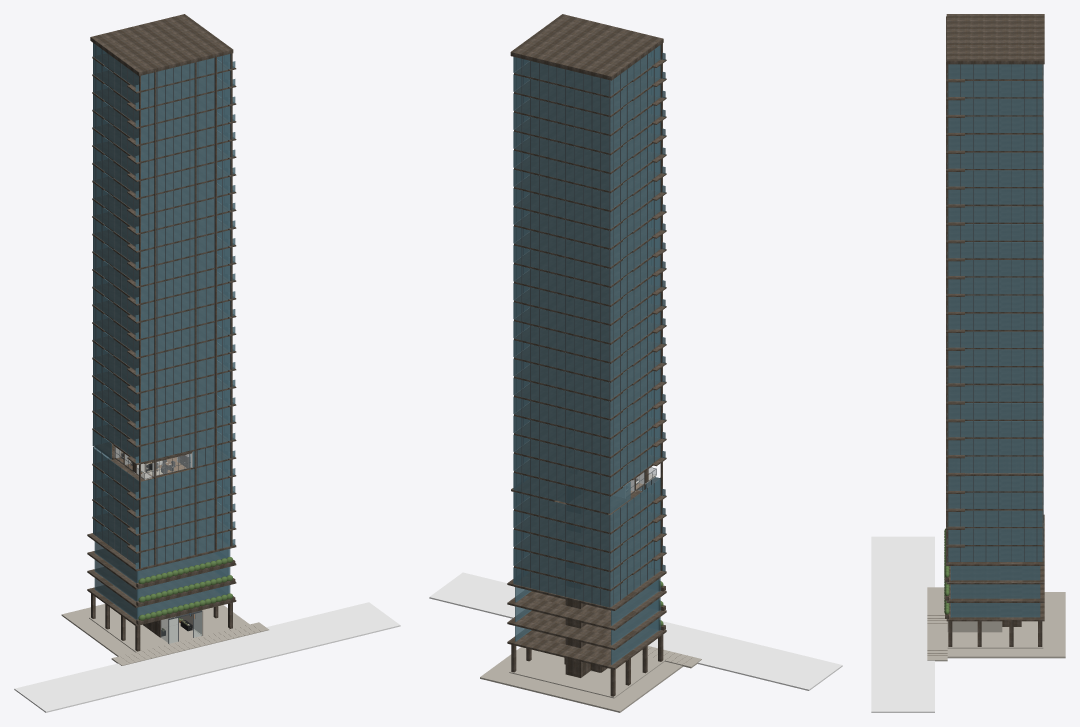
File: torre-natalini.b3b3d73ef3.glb
The picture shows the model from 3 angles, left to right: view 1: azimuth 30°, elevation 25°; view 2: azimuth 150°, elevation 25°; view 3: azimuth 270°, elevation 25°; orthographic projection. The views are drawn at different scales.
Visible parts, largest first — view 1: COL__fachada__Vidrio_fachada_azul_gris, COL__fachada__AV_Hormigon, COL__entorno__Asfalto, COL__fachada__AV_Aluminio, COL__podio__AV_Hormigon, COL__podio__Vidrio_fachada_azul_gris, COL__entorno__AV_Piedra, COL__podio__AV_Piedra, VIS__podio__Hojas, COL__depto__AV_Vidrio; view 2: COL__fachada__Vidrio_fachada_azul_gris, COL__fachada__AV_Hormigon, COL__fachada__AV_Aluminio, COL__podio__AV_Hormigon, COL__entorno__Asfalto, COL__entorno__AV_Piedra, COL__podio__AV_Piedra, COL__podio__Vidrio_fachada_azul_gris, COL__nucleo__AV_Hormigon; view 3: COL__fachada__AV_Hormigon, COL__fachada__Vidrio_fachada_azul_gris, COL__entorno__Asfalto, COL__podio__AV_Hormigon, COL__fachada__AV_Aluminio, COL__podio__Vidrio_fachada_azul_gris, COL__entorno__AV_Piedra, COL__podio__AV_Piedra, COL__hall__AV_Piedra.
Boxes of the visible parts, <box> form: COL__fachada__Vidrio_fachada_azul_gris: <box>92,43,235,568</box>; COL__fachada__AV_Hormigon: <box>90,14,236,571</box>; COL__entorno__Asfalto: <box>14,602,400,712</box>; COL__fachada__AV_Aluminio: <box>93,44,230,565</box>; COL__podio__AV_Hormigon: <box>87,530,236,651</box>; COL__podio__Vidrio_fachada_azul_gris: <box>94,541,230,619</box>; COL__entorno__AV_Piedra: <box>61,604,268,665</box>; COL__podio__AV_Piedra: <box>89,608,233,652</box>; VIS__podio__Hojas: <box>138,557,232,620</box>; COL__depto__AV_Vidrio: <box>116,448,190,478</box>; COL__fachada__Vidrio_fachada_azul_gris: <box>513,45,665,607</box>; COL__fachada__AV_Hormigon: <box>510,14,666,610</box>; COL__fachada__AV_Aluminio: <box>521,49,660,607</box>; COL__podio__AV_Hormigon: <box>507,567,666,696</box>; COL__entorno__Asfalto: <box>429,572,842,690</box>; COL__entorno__AV_Piedra: <box>480,646,701,712</box>; COL__podio__AV_Piedra: <box>509,651,664,698</box>; COL__podio__Vidrio_fachada_azul_gris: <box>515,578,660,664</box>; COL__nucleo__AV_Hormigon: <box>565,469,590,677</box>; COL__fachada__AV_Hormigon: <box>946,14,1044,565</box>; COL__fachada__Vidrio_fachada_azul_gris: <box>947,64,1043,563</box>; COL__entorno__Asfalto: <box>871,536,934,712</box>; COL__podio__AV_Hormigon: <box>945,514,1044,646</box>; COL__fachada__AV_Aluminio: <box>960,64,1043,561</box>; COL__podio__Vidrio_fachada_azul_gris: <box>950,566,1040,617</box>; COL__entorno__AV_Piedra: <box>927,587,1065,661</box>; COL__podio__AV_Piedra: <box>947,621,1043,648</box>; COL__hall__AV_Piedra: <box>947,621,1002,632</box>.
Bounding box in the file's own units: 65 × 102 × 30.5.
Materials: 30 (6 with a texture image).
